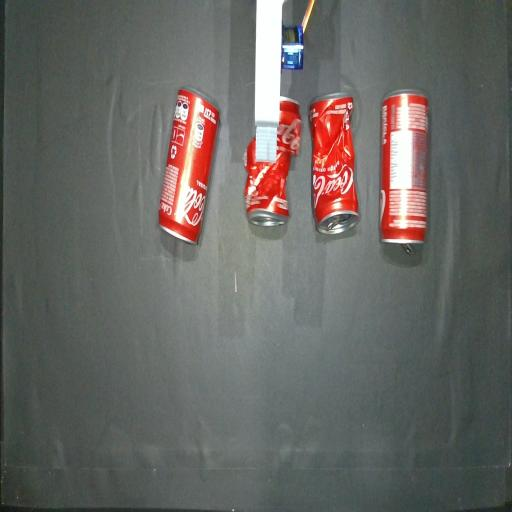lata: (159, 90, 220, 243), (381, 91, 429, 244)
lata_defectuoso: (244, 97, 301, 226), (308, 93, 358, 234)
